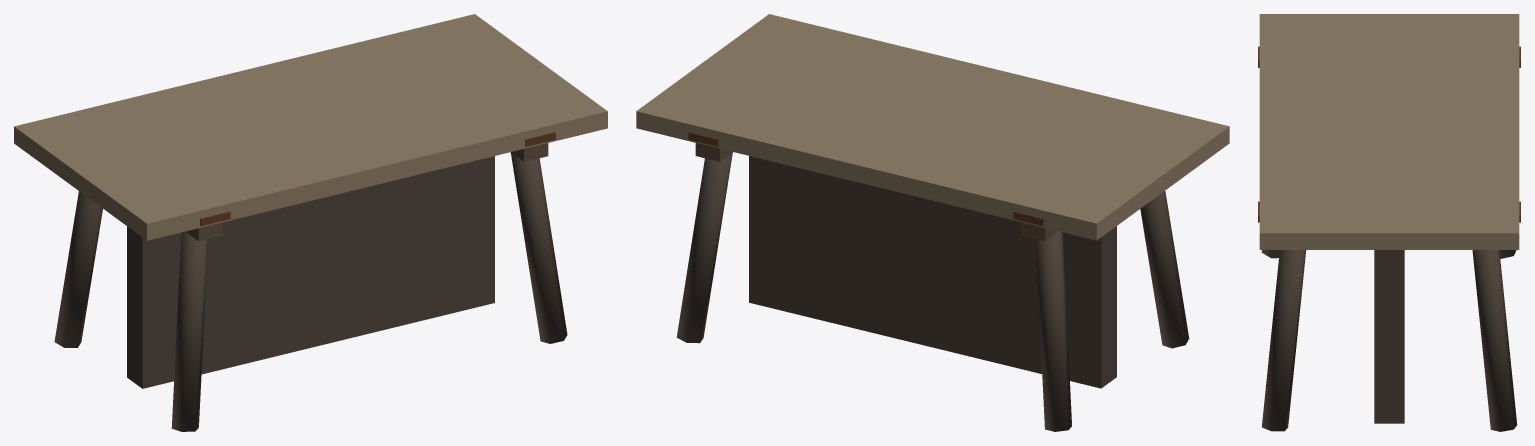
The model's file is homestead_table.glb.
3 renders of one model, left to right at view 1: azimuth 30°, elevation 25°; view 2: azimuth 150°, elevation 25°; view 3: azimuth 270°, elevation 25°, orthographic. The views are drawn at different scales.
Parts seen in each view (by area): view 1: HomesteadTable_FarTop, HomesteadTable_FarLegs, HomesteadTable_Plank3, HomesteadTable_Plank1, HomesteadTable_Leg-1-1, HomesteadTable_Leg1-1, HomesteadTable_Plank4, HomesteadTable_Leg-11, HomesteadTable_Plank2, HomesteadTable_Plank0; view 2: HomesteadTable_FarLegs, HomesteadTable_FarTop, HomesteadTable_Plank0, HomesteadTable_Plank1, HomesteadTable_Plank3, HomesteadTable_Plank4, HomesteadTable_Plank2, HomesteadTable_Leg-11, HomesteadTable_Leg11, HomesteadTable_Leg-1-1; view 3: HomesteadTable_FarTop, HomesteadTable_Plank2, HomesteadTable_Plank0, HomesteadTable_Plank1, HomesteadTable_Plank3, HomesteadTable_Plank4, HomesteadTable_FarLegs, HomesteadTable_Leg11, HomesteadTable_Leg1-1.
Part boxes in pixels (x1,y1,x2,y2): HomesteadTable_FarTop: [14, 14, 607, 240]; HomesteadTable_FarLegs: [127, 156, 494, 388]; HomesteadTable_Plank3: [41, 34, 524, 180]; HomesteadTable_Plank1: [95, 111, 468, 219]; HomesteadTable_Leg-1-1: [171, 231, 208, 431]; HomesteadTable_Leg1-1: [510, 152, 567, 343]; HomesteadTable_Plank4: [15, 15, 497, 161]; HomesteadTable_Leg-11: [54, 191, 102, 347]; HomesteadTable_Plank2: [68, 54, 544, 200]; HomesteadTable_Plank0: [121, 111, 600, 239]; HomesteadTable_FarLegs: [749, 156, 1116, 388]; HomesteadTable_FarTop: [636, 14, 1229, 240]; HomesteadTable_Plank0: [745, 15, 1228, 149]; HomesteadTable_Plank1: [718, 34, 1201, 164]; HomesteadTable_Plank3: [665, 73, 1148, 213]; HomesteadTable_Plank4: [702, 124, 1121, 239]; HomesteadTable_Plank2: [697, 54, 1175, 200]; HomesteadTable_Leg-11: [1035, 231, 1071, 431]; HomesteadTable_Leg11: [676, 153, 732, 343]; HomesteadTable_Leg-1-1: [1140, 191, 1189, 348]; HomesteadTable_FarTop: [1259, 14, 1519, 249]; HomesteadTable_Plank2: [1365, 14, 1413, 249]; HomesteadTable_Plank0: [1262, 14, 1309, 249]; HomesteadTable_Plank1: [1314, 14, 1361, 249]; HomesteadTable_Plank3: [1417, 14, 1464, 249]; HomesteadTable_Plank4: [1469, 14, 1516, 249]; HomesteadTable_FarLegs: [1374, 250, 1404, 423]; HomesteadTable_Leg11: [1472, 250, 1517, 431]; HomesteadTable_Leg1-1: [1262, 250, 1306, 431].
Bounding box in the file's own units: 1.7 × 0.7866 × 0.86.
